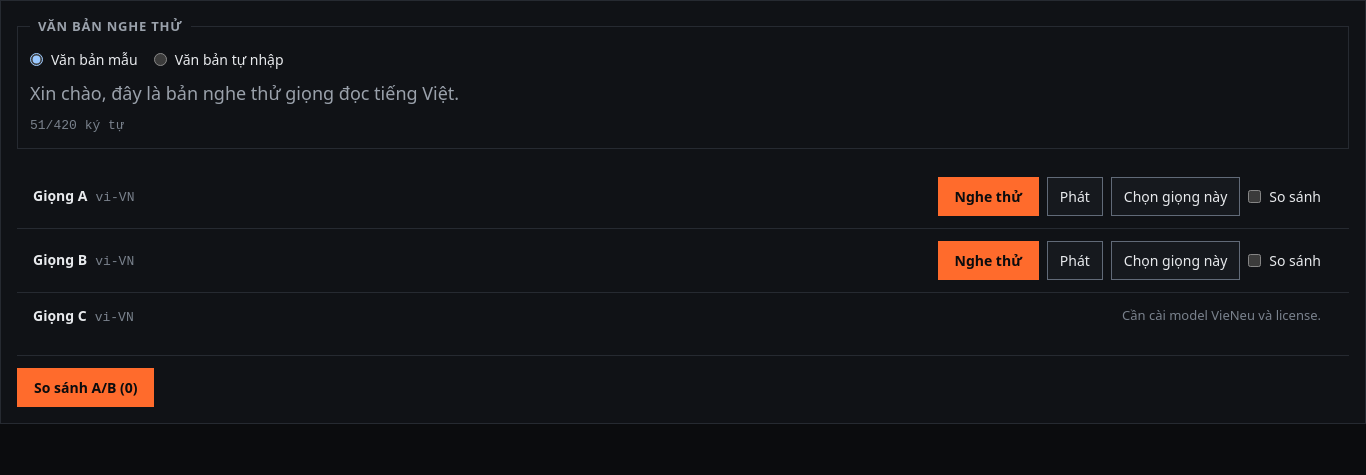
Test: VoicePreviewPanel (A02) › hiển thị nhãn lấy từ cache khi backend trả fromCache
Click the button "Nghe thử" in the row of "Giọng A" at (988, 196), box [938,177,1039,216]
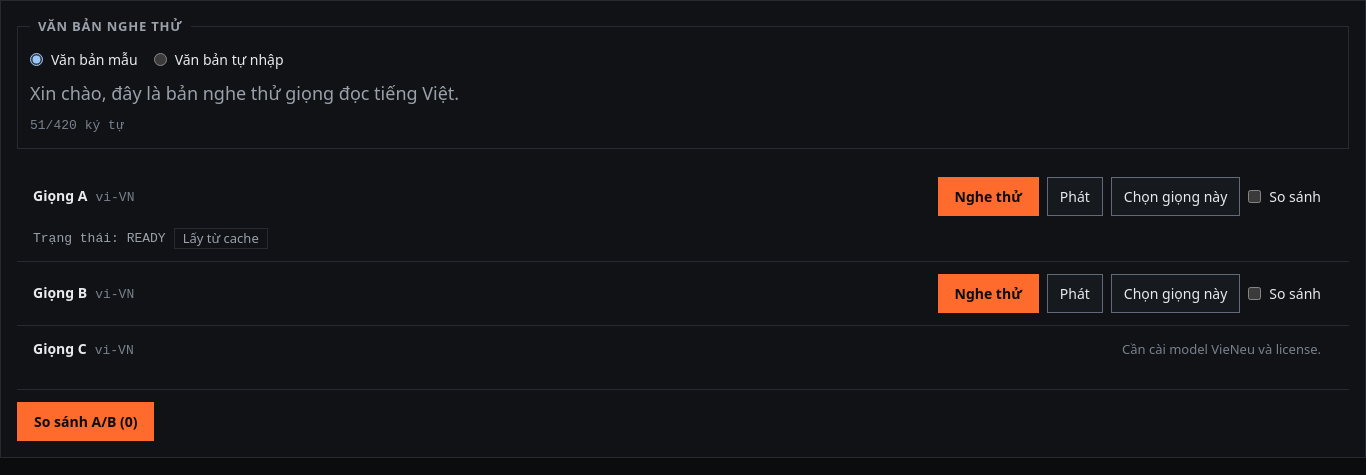
Expected: the text "Lấy từ cache" is shown, [174,228,268,249]
